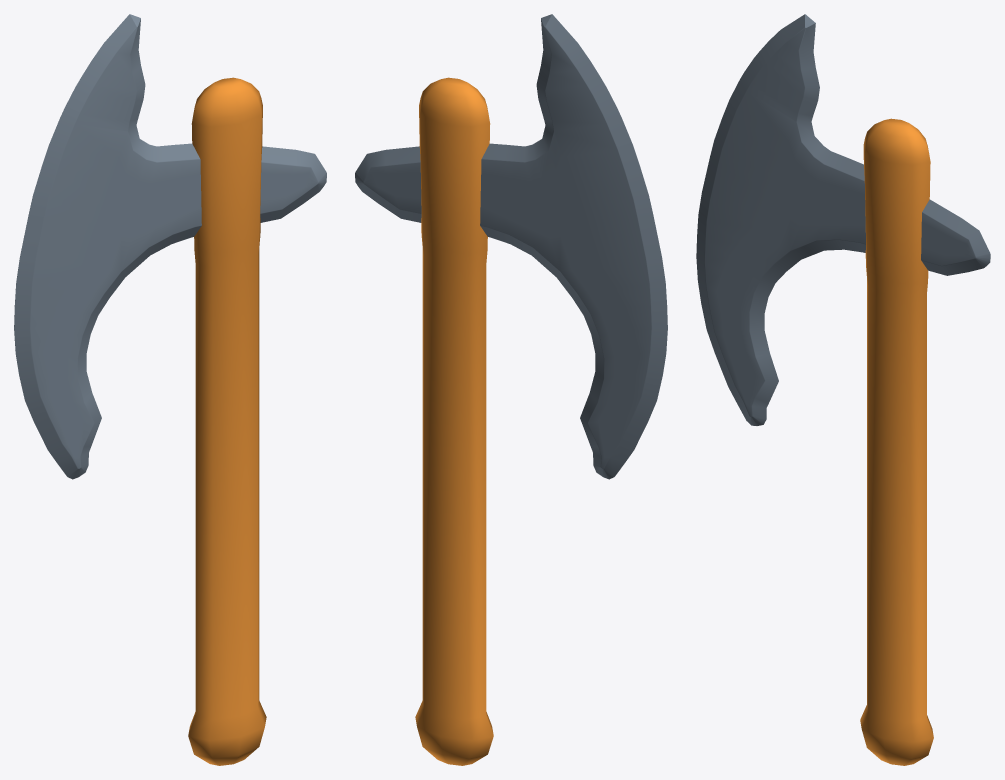
File: Axe.fbx
3 renders of one model, left to right at view 1: azimuth 30°, elevation 25°; view 2: azimuth 150°, elevation 25°; view 3: azimuth 330°, elevation 25°, orthographic. The views are drawn at different scales.
Parts seen in each view (by area): view 1: Axe; view 2: Axe; view 3: Axe.
Part boxes in pixels (<box>): Axe: <box>14,14,326,765</box>; Axe: <box>355,14,667,765</box>; Axe: <box>696,14,990,765</box>.
Bounding box in the file's own units: 81.51 × 192 × 12.52.
